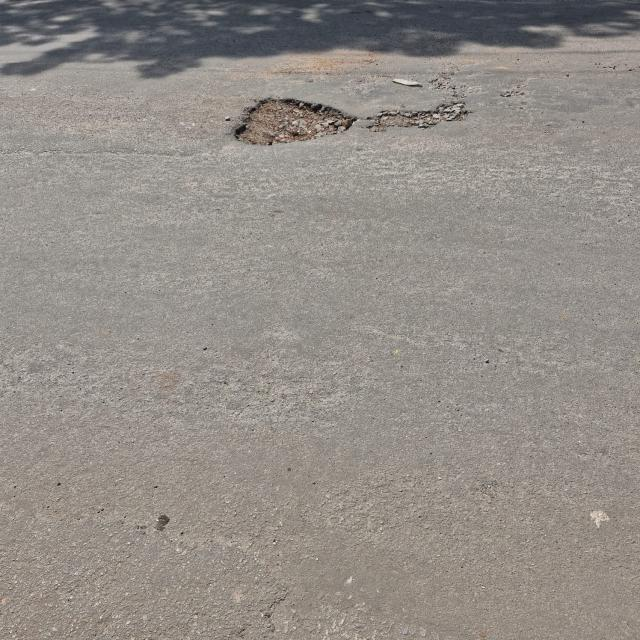pothole: (235, 99, 360, 145), (368, 99, 468, 131), (429, 68, 480, 104), (500, 81, 526, 98), (152, 512, 174, 532)
